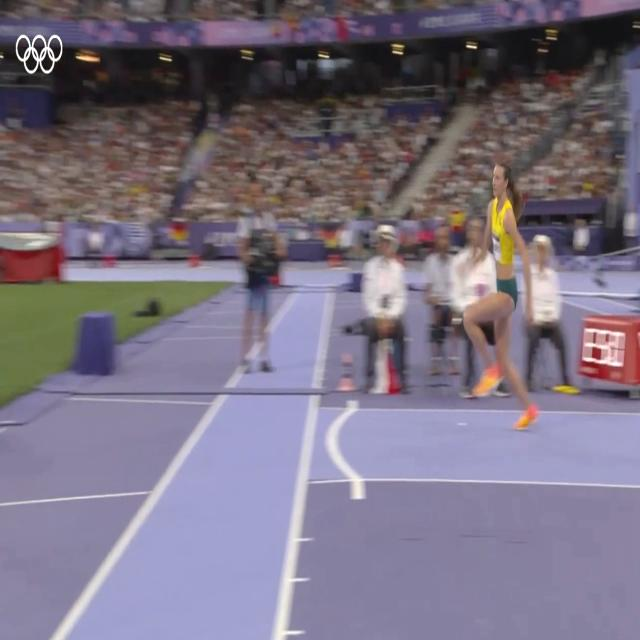run: (464, 166, 535, 430)
